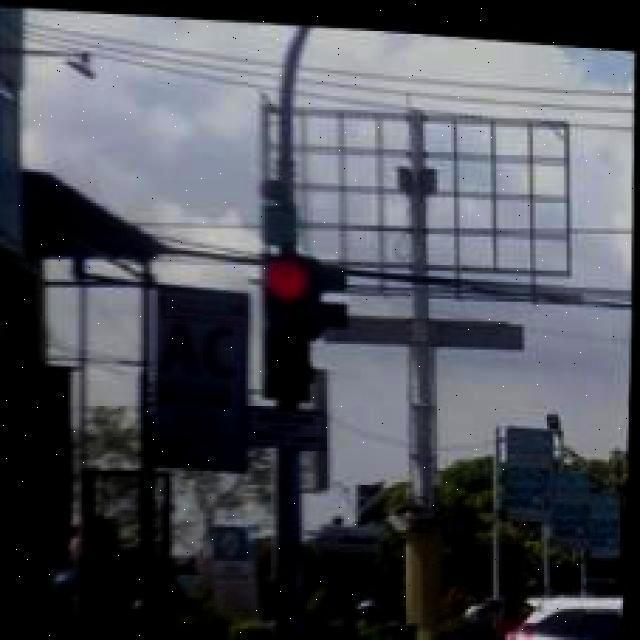red_light: (256, 228, 365, 446)
